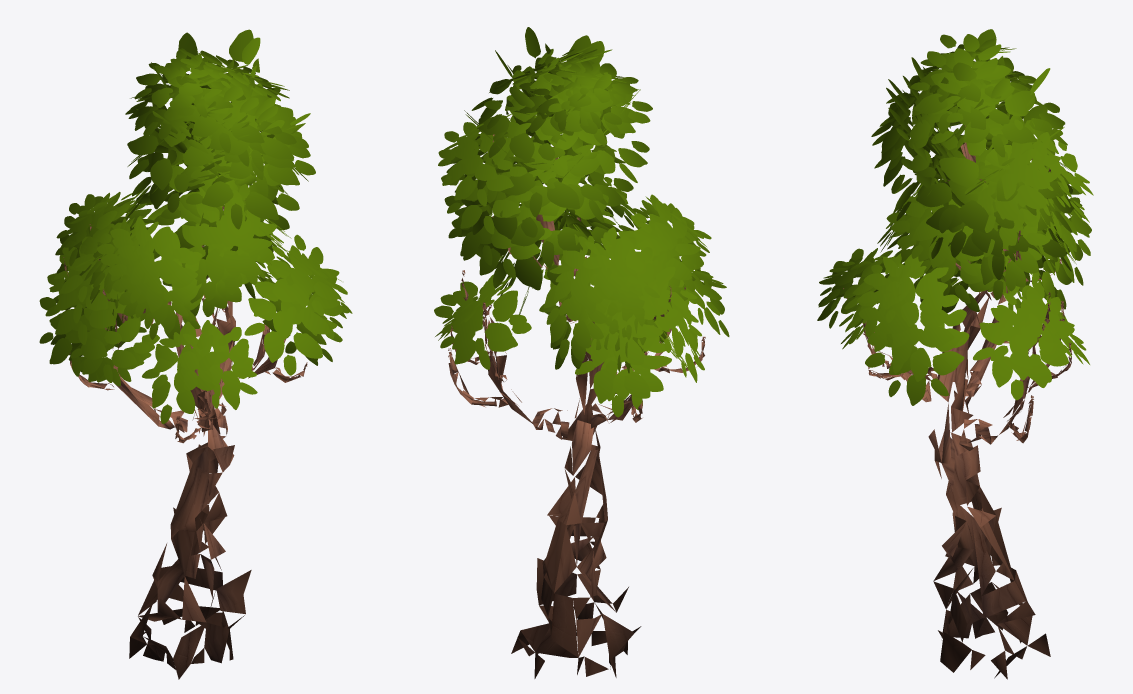
File: CommonTree_2_lod1.glb
3 views of the same model, side by side, from view 1: azimuth 30°, elevation 25°; view 2: azimuth 150°, elevation 25°; view 3: azimuth 270°, elevation 25° (orthographic). The views are drawn at different scales.
Parts seen in each view (by area): view 1: CommonTree_2; view 2: CommonTree_2; view 3: CommonTree_2.
Part boxes in pixels (<box>): CommonTree_2: <box>39,29,352,679</box>; CommonTree_2: <box>434,27,729,678</box>; CommonTree_2: <box>817,29,1093,679</box>.
Size of the model in its own units: 3.68 by 7.68 by 3.67.
2 materials, 2 textured.
